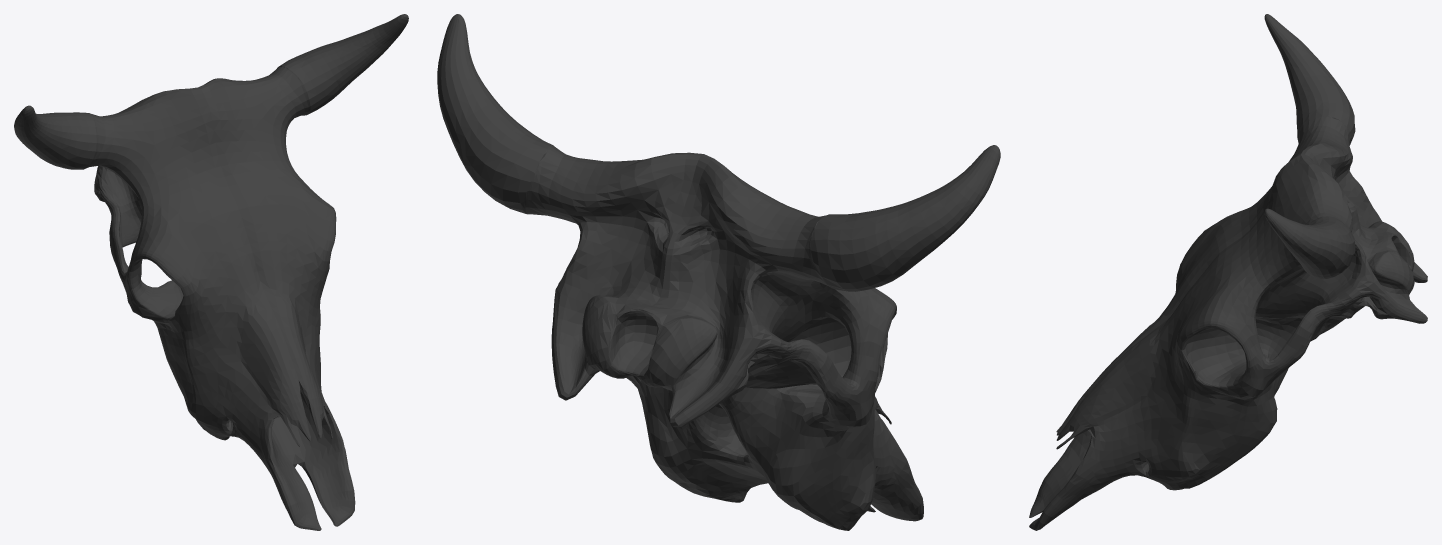
File: b_cranium_LO.glb
The picture shows the model from 3 angles, left to right: view 1: azimuth 30°, elevation 25°; view 2: azimuth 150°, elevation 25°; view 3: azimuth 270°, elevation 25°; orthographic projection. The views are drawn at different scales.
Parts seen in each view (by area): view 1: b_cranium_LO; view 2: b_cranium_LO; view 3: b_cranium_LO.
Part boxes in pixels (<box>): b_cranium_LO: <box>14,14,408,530</box>; b_cranium_LO: <box>437,14,1000,530</box>; b_cranium_LO: <box>1029,14,1427,530</box>.
Size of the model in its own units: 0.00499 by 0.00478 by 0.00421.
1 material, 1 textured.
